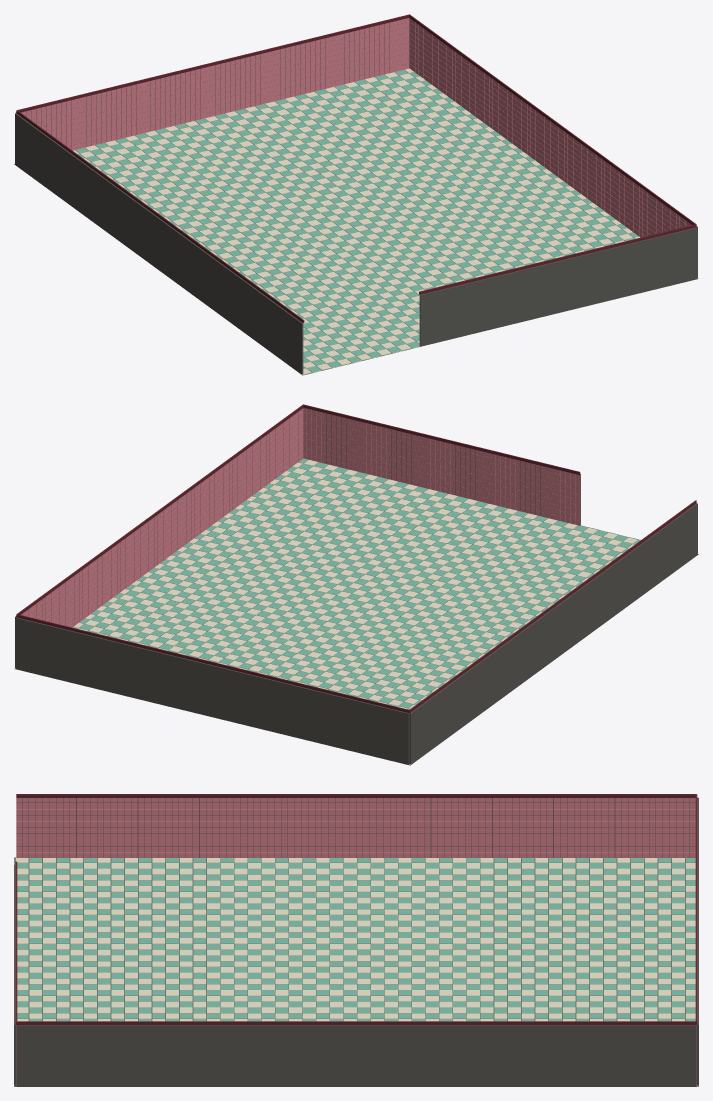
File: SM_80s_BathShell.glb
3 views of the same model, one above another, from view 1: azimuth 30°, elevation 25°; view 2: azimuth 150°, elevation 25°; view 3: azimuth 270°, elevation 25° (orthographic). The views are drawn at different scales.
Parts seen in each view (by area): view 1: SM_80s_BathShell; view 2: SM_80s_BathShell; view 3: SM_80s_BathShell.
Boxes of the visible parts, bbox=[...] form: SM_80s_BathShell: bbox=[14, 14, 698, 375]; SM_80s_BathShell: bbox=[14, 404, 698, 765]; SM_80s_BathShell: bbox=[14, 794, 698, 1086].
Size of the model in its own units: 12.11 by 1.58 by 15.28.
